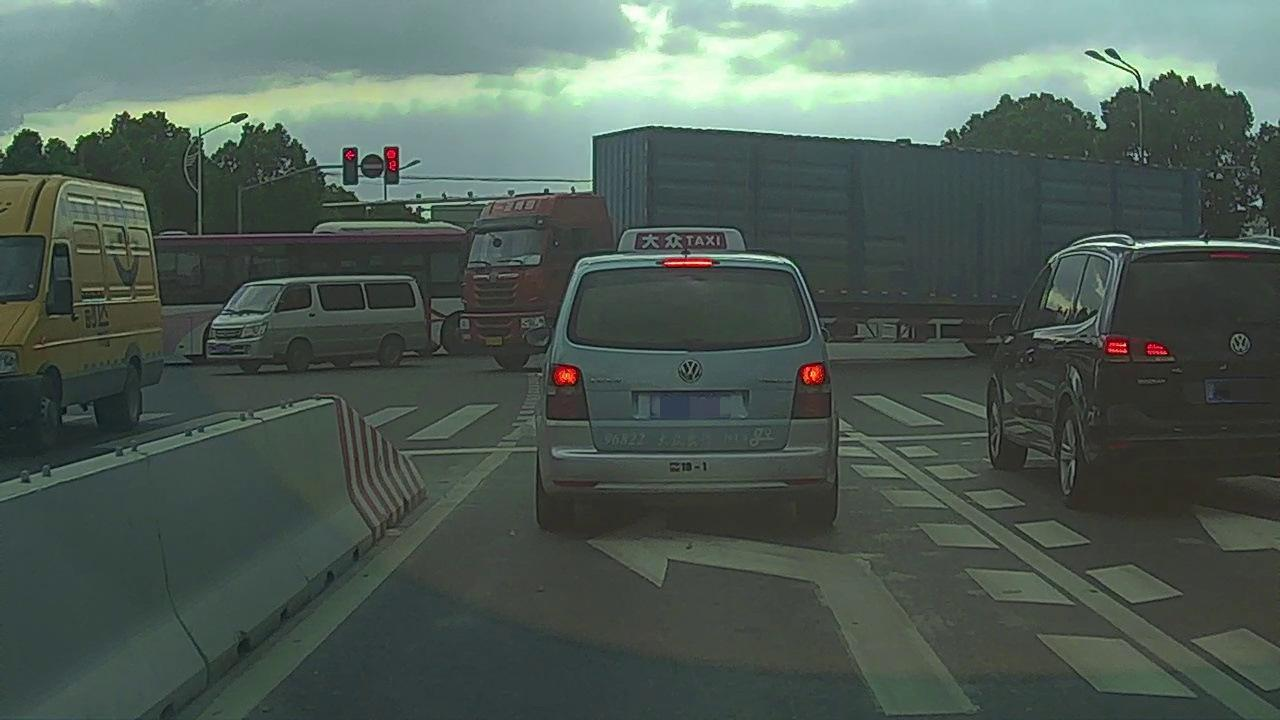traffic_light: (342, 148, 358, 185), (384, 147, 399, 185)
